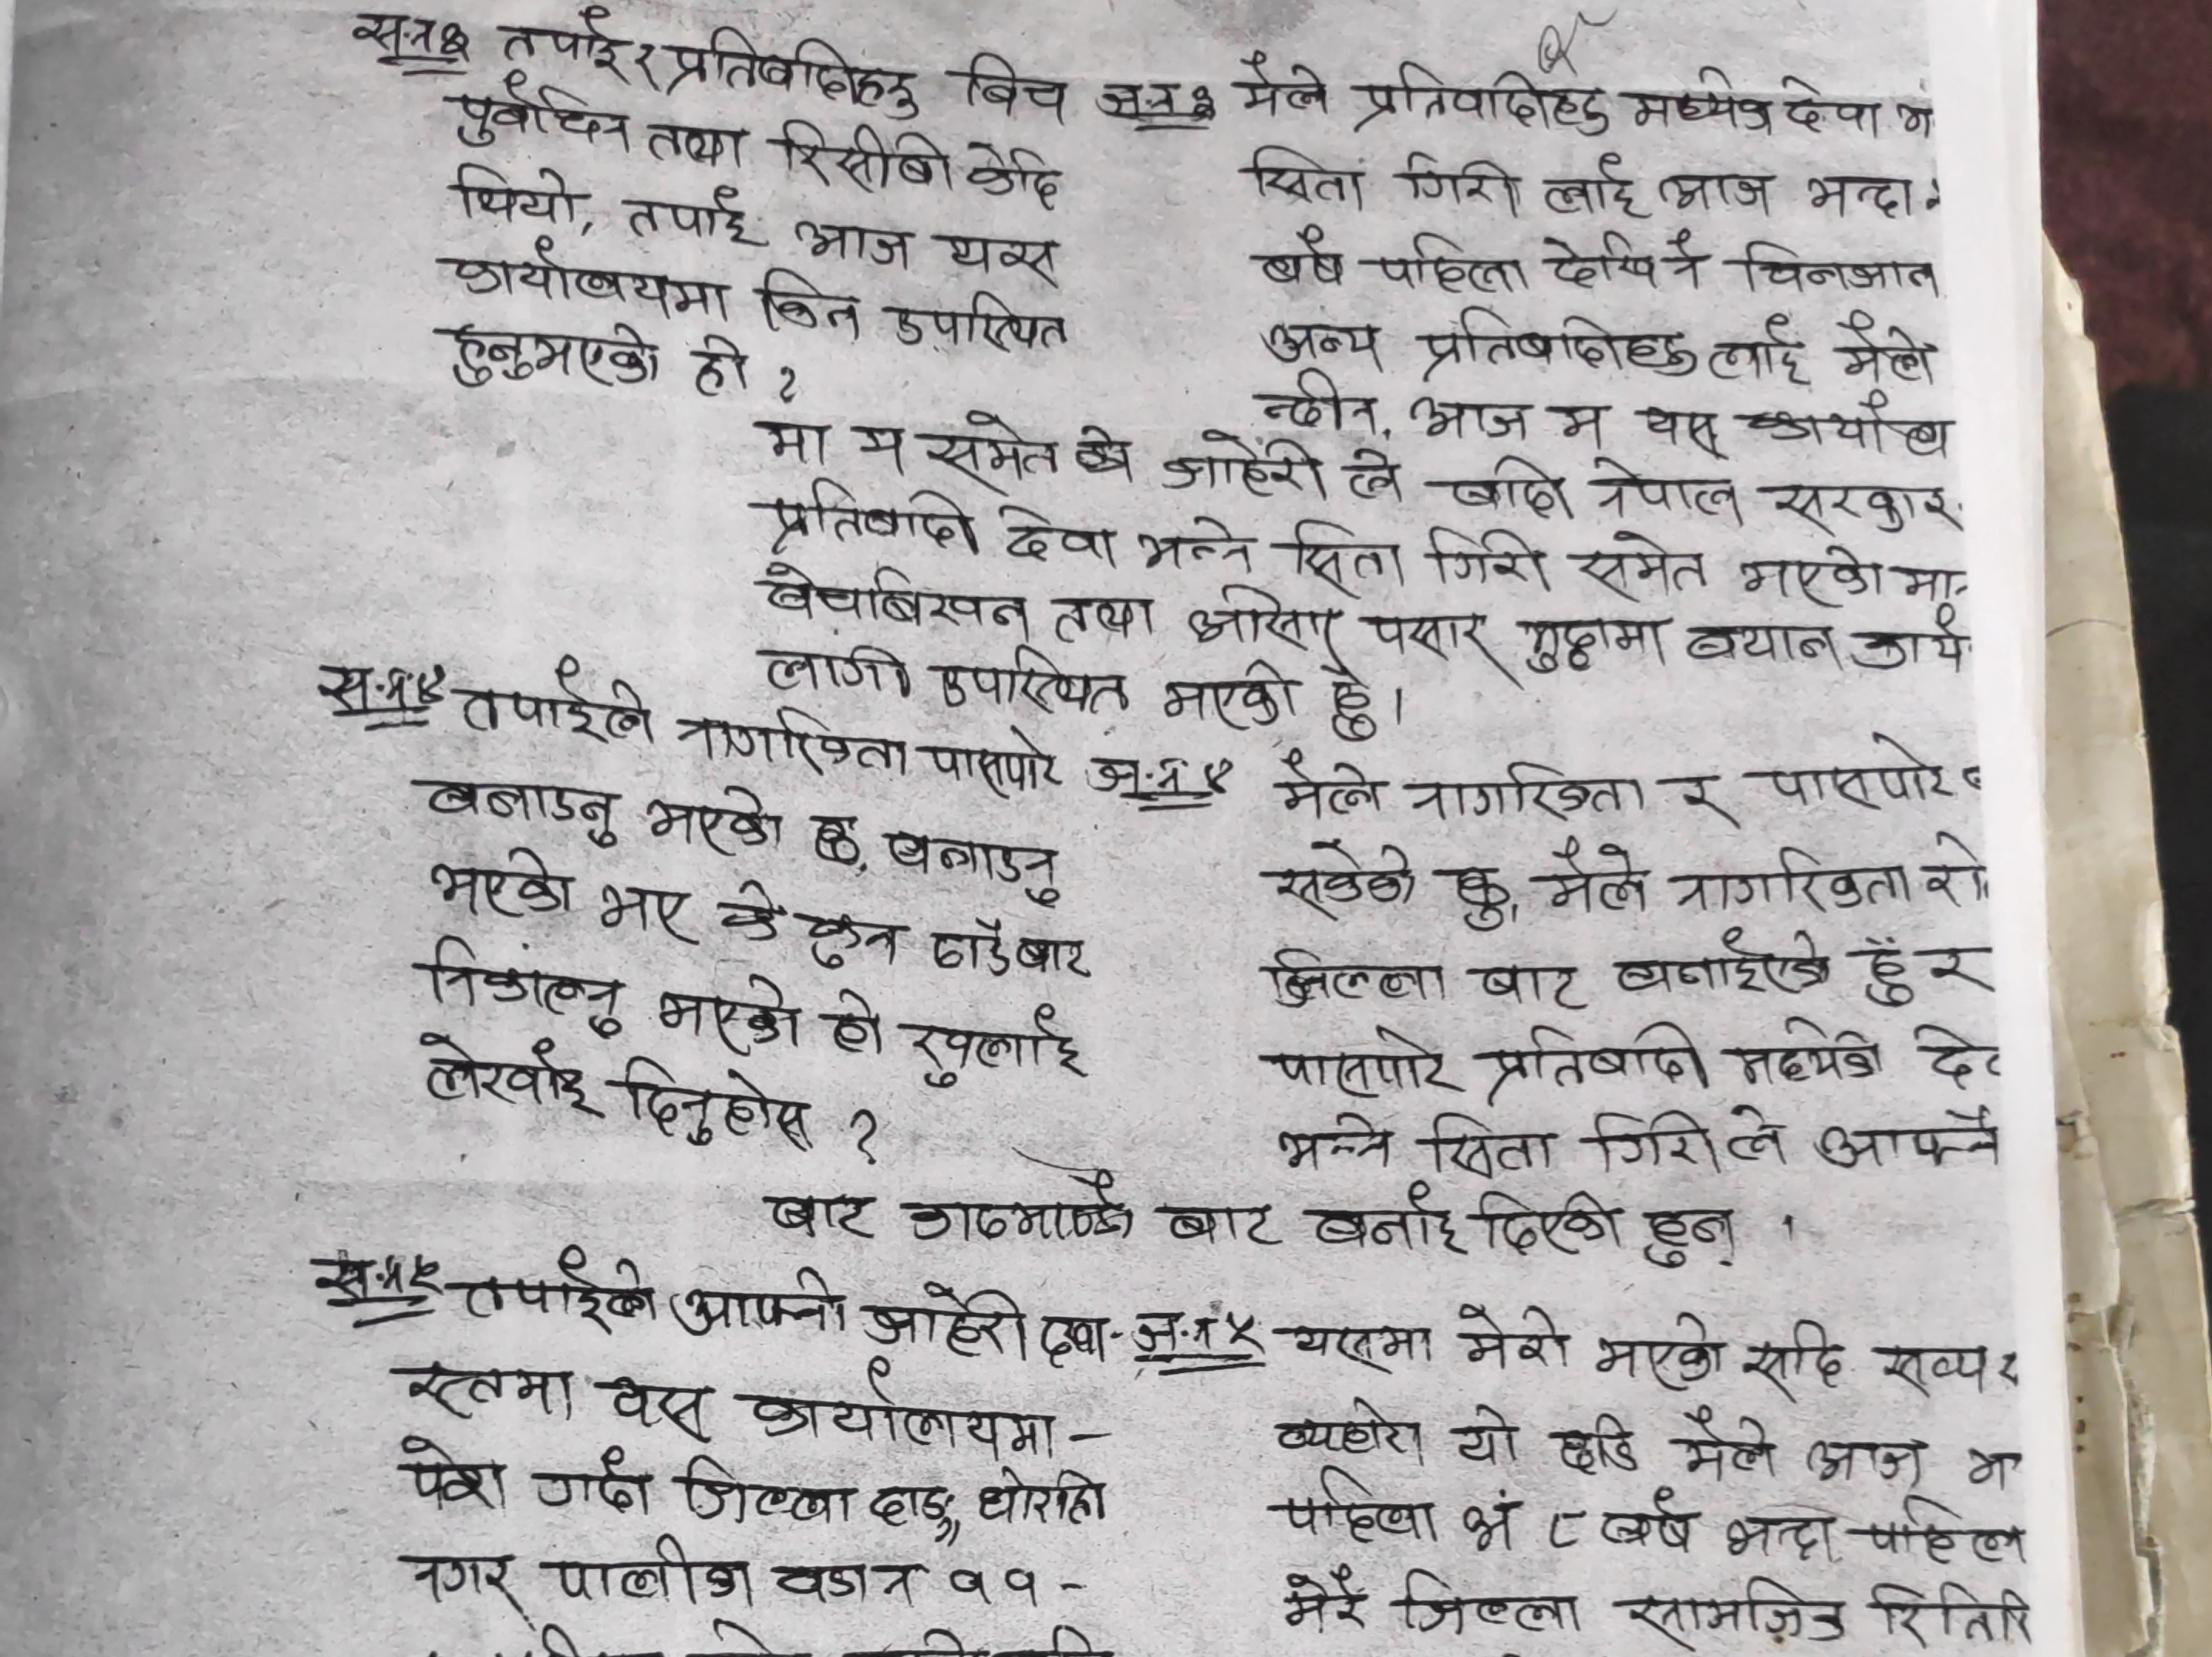text: (743, 1358, 1060, 1459), (442, 235, 736, 324), (660, 26, 922, 120), (1413, 305, 1699, 388), (423, 929, 633, 1039), (757, 557, 1039, 635), (1356, 57, 1612, 141), (616, 1057, 816, 1161), (1474, 1018, 1716, 1100), (459, 654, 660, 752), (900, 1163, 1138, 1244), (1620, 1570, 1853, 1654), (461, 1239, 661, 1335), (672, 705, 914, 782), (1666, 844, 1909, 919), (881, 818, 1076, 910), (764, 475, 985, 553), (1610, 922, 1836, 997), (419, 1030, 604, 1121), (928, 641, 1135, 721), (546, 1533, 762, 1610), (412, 773, 632, 848), (446, 317, 663, 392), (907, 1003, 1095, 1088), (771, 115, 959, 197), (1766, 728, 1958, 808), (452, 73, 633, 157), (1810, 1100, 2007, 1177), (861, 1278, 1034, 1365), (1399, 761, 1650, 820), (1257, 1025, 1458, 1098), (1733, 231, 1939, 303), (1279, 1464, 1445, 1551), (1744, 390, 1946, 460), (675, 1450, 855, 1528), (1392, 1563, 1584, 1636), (653, 971, 809, 1058), (886, 289, 1079, 359), (672, 1267, 849, 1340), (1314, 1177, 1465, 1262), (1866, 1575, 2034, 1650), (395, 1356, 576, 1426), (1860, 1493, 2031, 1566), (1262, 943, 1450, 1010), (924, 910, 1096, 982), (1185, 580, 1345, 656), (1726, 1011, 1887, 1088), (1156, 428, 1326, 500), (430, 844, 580, 924), (1587, 454, 1742, 531), (1624, 61, 1777, 138), (1264, 841, 1422, 914), (1279, 513, 1408, 599), (1594, 1309, 1728, 1391), (644, 783, 790, 858), (922, 409, 1062, 487), (1373, 231, 1533, 299), (1270, 1394, 1431, 1462), (1568, 529, 1709, 606), (623, 176, 766, 251), (1156, 656, 1297, 731), (399, 1547, 529, 1627), (1770, 482, 1963, 534), (1732, 543, 1887, 607), (1535, 832, 1652, 917), (1472, 1187, 1615, 1257), (447, 157, 583, 230), (1514, 613, 1671, 675), (1420, 1105, 1558, 1177), (759, 639, 919, 700), (924, 724, 1063, 794), (1432, 451, 1575, 519), (950, 49, 1072, 127), (1450, 1300, 1577, 1373), (1255, 367, 1384, 439), (1852, 600, 1968, 679), (1418, 524, 1552, 592), (1399, 146, 1523, 219), (1678, 620, 1840, 675), (1744, 1316, 1847, 1403), (496, 3, 627, 71), (1533, 223, 1657, 294), (1241, 141, 1366, 211), (992, 500, 1114, 571), (1584, 1107, 1718, 1171), (534, 1450, 654, 1521), (975, 1466, 1110, 1528), (1672, 1406, 1779, 1486), (1356, 606, 1498, 665), (1834, 306, 1937, 388), (1542, 150, 1653, 225), (399, 1439, 510, 1513), (754, 265, 861, 339), (1272, 748, 1385, 820), (1702, 310, 1808, 385), (1902, 1018, 2010, 1091), (1636, 1199, 1742, 1272), (1276, 1107, 1399, 1170), (1286, 1319, 1434, 1372), (1798, 1431, 1928, 1490), (1135, 515, 1257, 578), (1878, 1338, 1989, 1406), (794, 214, 915, 275), (795, 910, 907, 976), (604, 1375, 714, 1441), (1777, 73, 1883, 141), (1716, 1509, 1841, 1566), (1276, 1561, 1371, 1636), (1229, 50, 1337, 117), (1594, 1485, 1697, 1553), (759, 1187, 875, 1246), (1046, 590, 1156, 653), (1250, 223, 1351, 291), (961, 139, 1056, 211), (935, 233, 1065, 285), (1655, 164, 1777, 219), (861, 1478, 961, 1546), (1154, 1199, 1283, 1251), (1406, 393, 1535, 446), (1545, 1410, 1641, 1479), (1800, 164, 1921, 218), (597, 879, 698, 943), (1441, 1399, 1530, 1469), (942, 1558, 1051, 1613), (644, 115, 750, 172), (1257, 319, 1389, 364), (1472, 964, 1592, 1013), (773, 1556, 872, 1613), (1321, 656, 1384, 747), (1848, 931, 1916, 1015), (1716, 1093, 1789, 1168), (719, 874, 790, 949), (1450, 862, 1514, 936), (1636, 399, 1721, 454), (1927, 936, 1993, 1008), (1039, 1305, 1110, 1370), (825, 985, 882, 1060), (1455, 1488, 1519, 1553), (1337, 444, 1404, 505), (808, 808, 875, 869), (687, 331, 755, 390), (1672, 775, 1739, 834), (764, 416, 832, 473), (1659, 223, 1709, 292), (872, 1556, 933, 1610), (1552, 397, 1610, 451), (1965, 1441, 2022, 1495), (1542, 1502, 1591, 1558), (855, 423, 910, 468)
